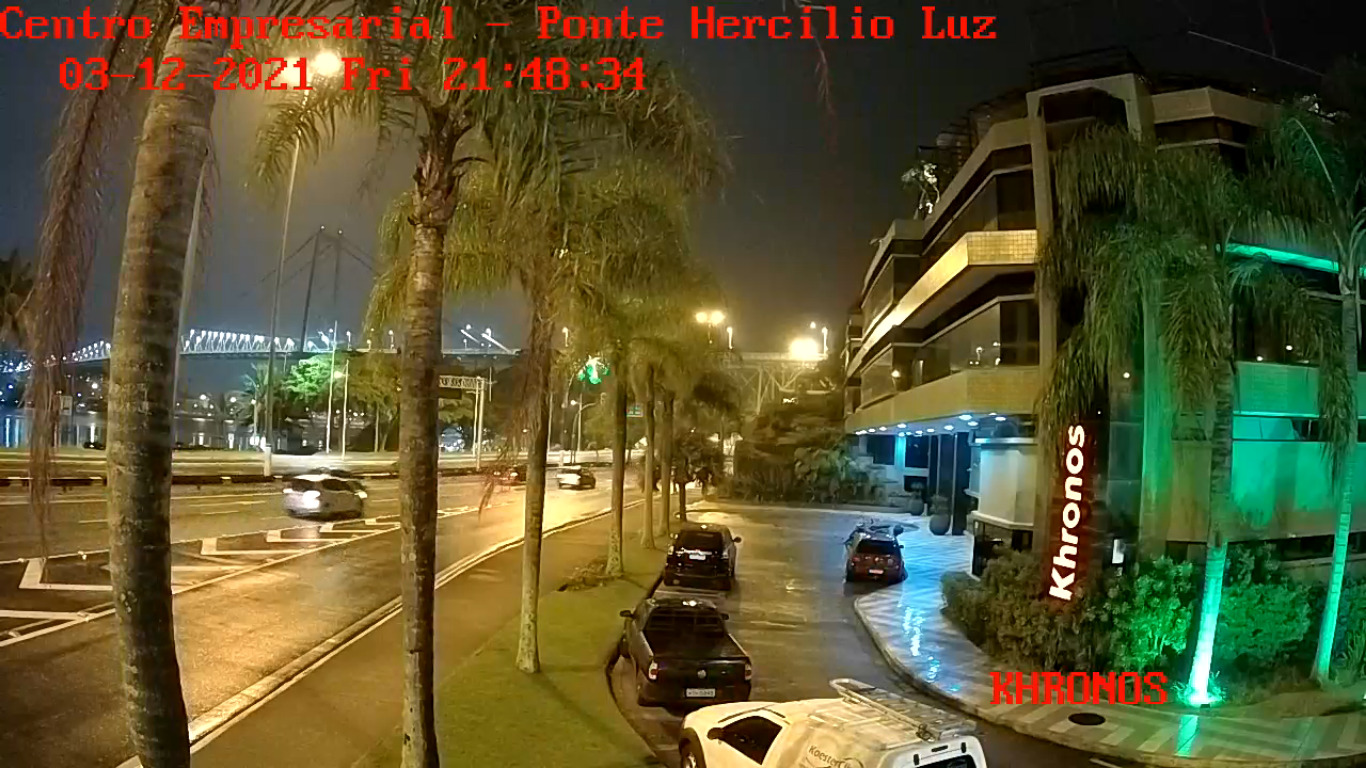car: (672, 677, 989, 768), (613, 591, 756, 708), (663, 518, 744, 588), (281, 470, 366, 520)
